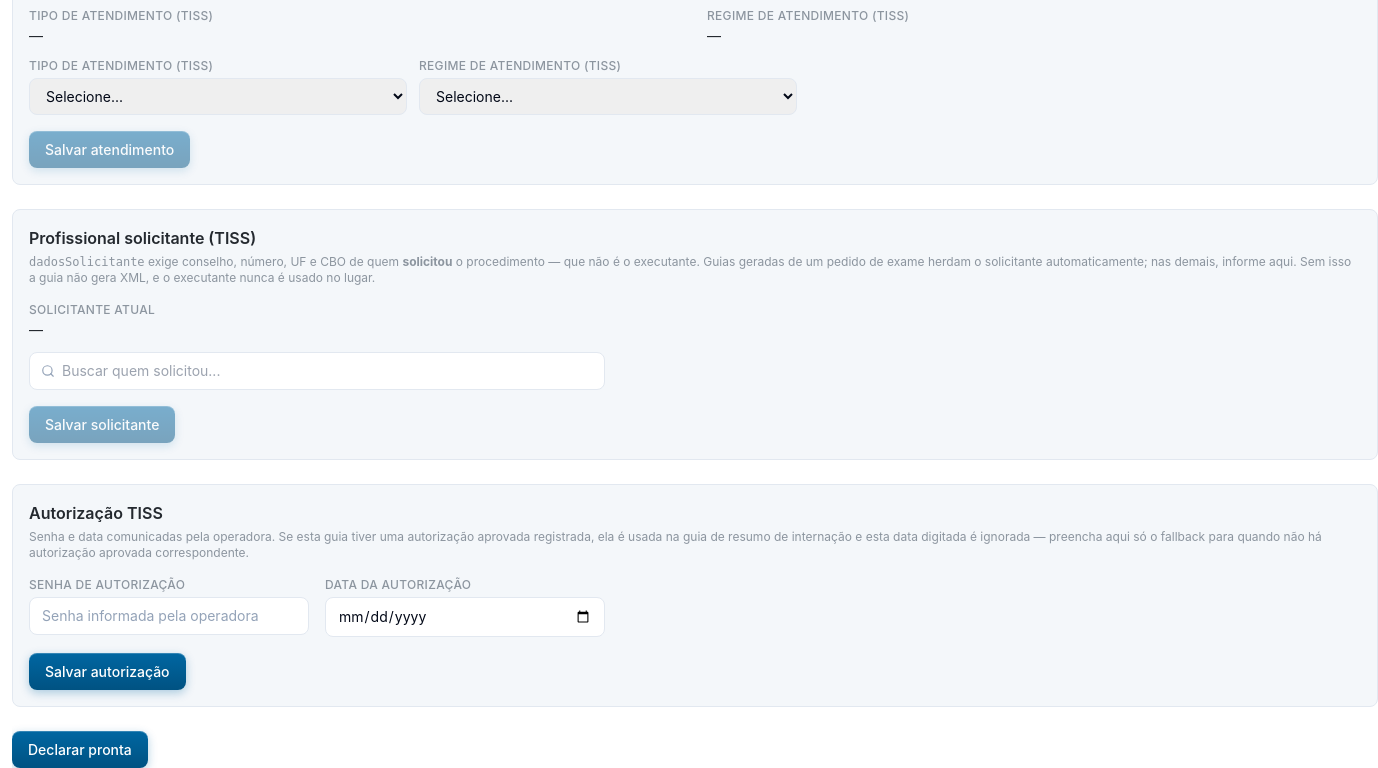
Test: GuideDetailPage — authorization_date › sends the picked date as plain YYYY-MM-DD, with no timezone shift
The image size is (1378, 768).
(page scrolled)
Type "AUTH-1" into the field labelled "Senha de autorização" at (169,616), box x1=29 y1=597 x2=309 y2=635
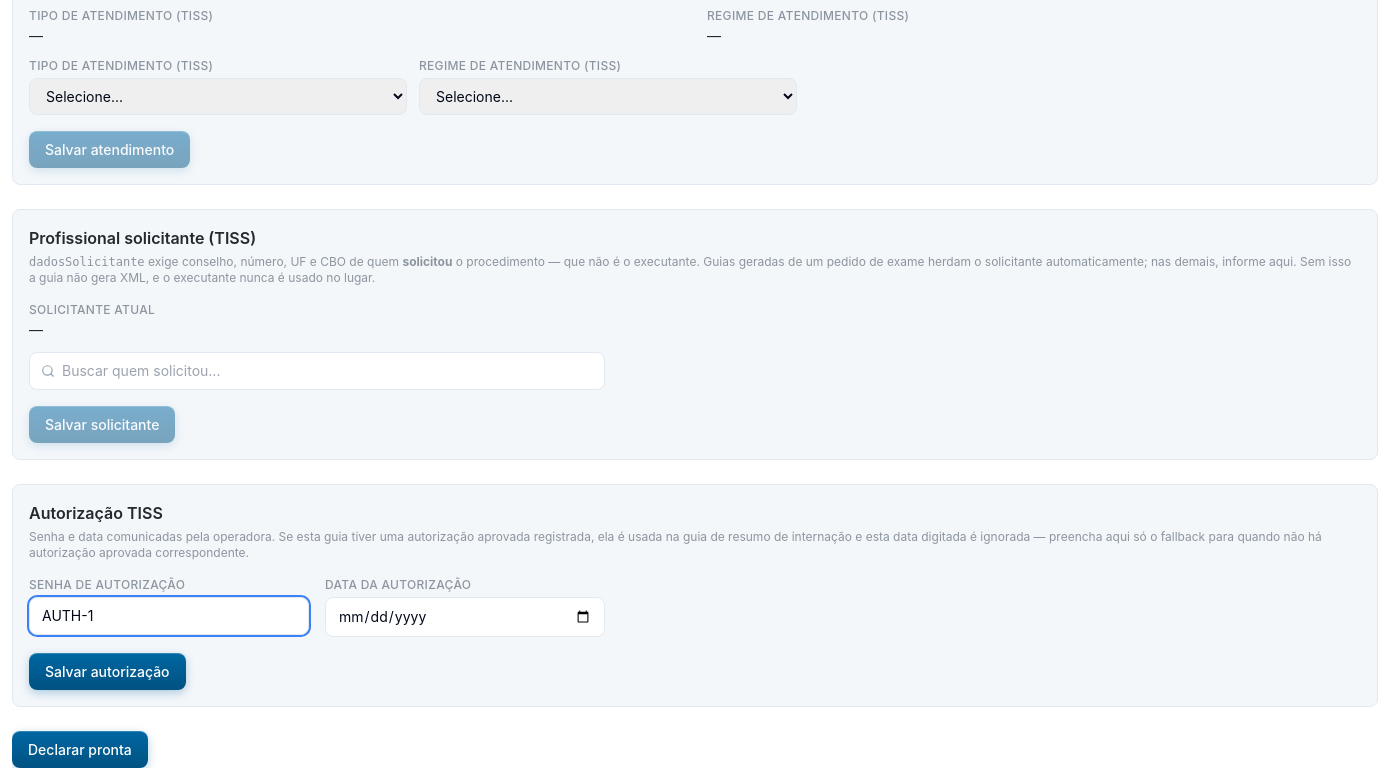
Last day of the month — a classic UTC-conversion off-by-one trap.
Type "2026-08-31" into the date field labelled "Data da autorização" at (465,617), box x1=325 y1=597 x2=605 y2=637
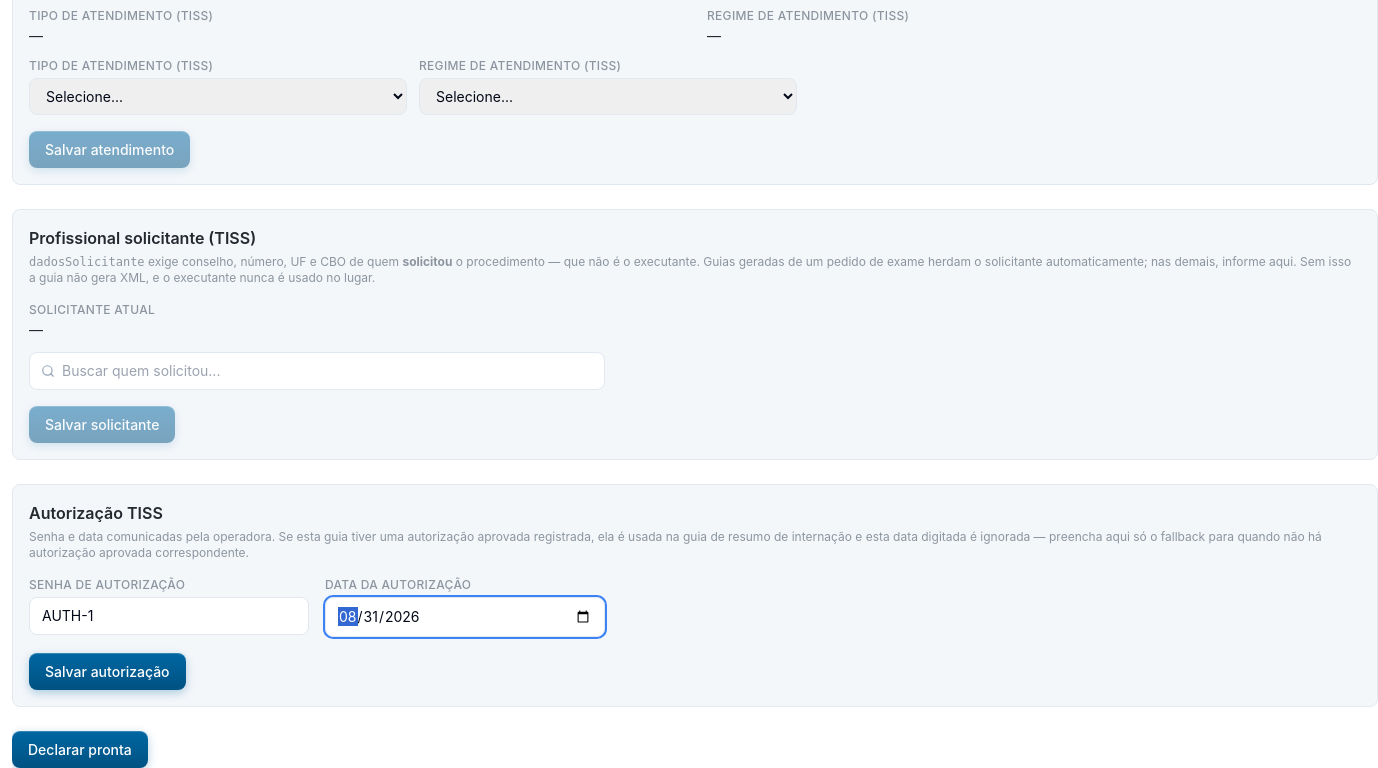
Click the button "Salvar autorização" at (107,672), box x1=29 y1=653 x2=186 y2=690
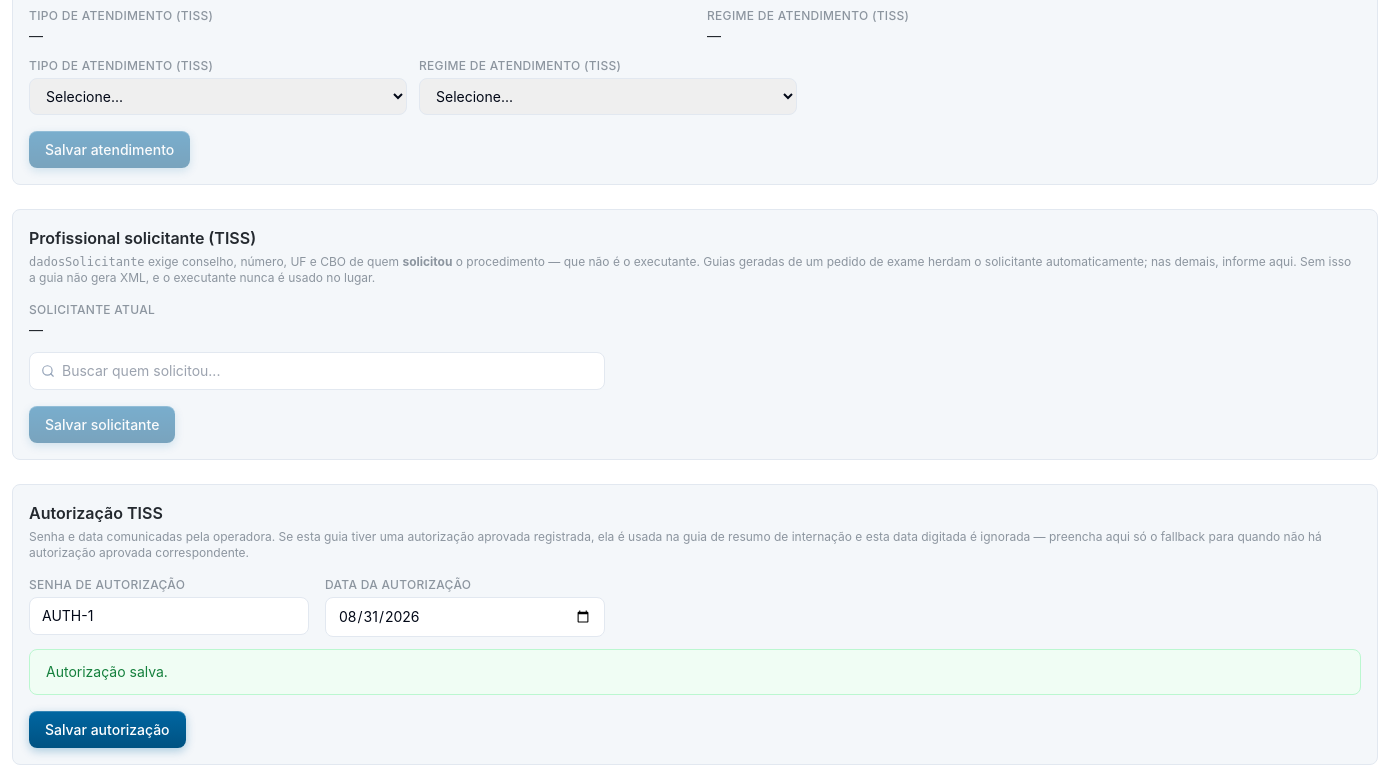
Now the text "Autorização salva." is shown, box x1=29 y1=649 x2=1361 y2=695
